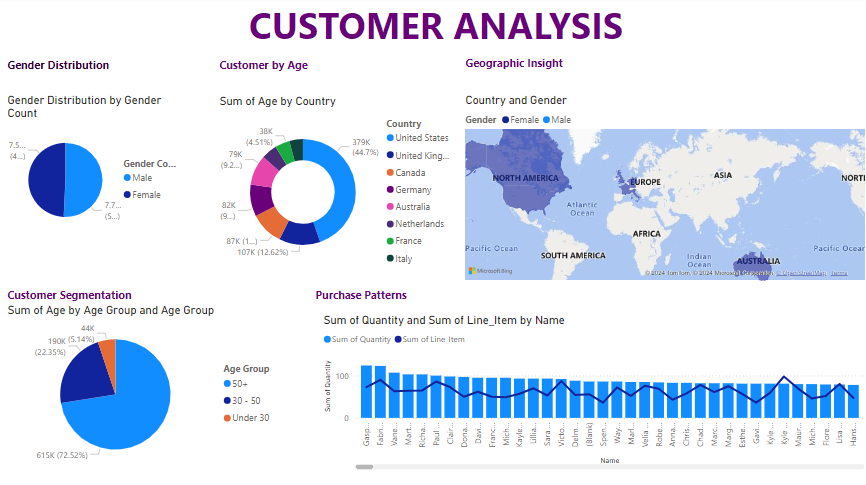

The dashboard page shown, as its layout file describes it:
{"tool":"powerbi","page":{"name":"Customer Analysis","canvas":[1280,720],"ordinal":0},"visuals":[{"type":"textbox","box":[10.3,0,1269.6,85.2],"z":0},{"type":"textbox","box":[10.3,85.2,194,32.3],"z":1000},{"type":"pieChart","fields":{"Category":["customer_sale_eda customer_details.Gender"],"Y":["customer_sale_eda customer_details.Gender"]},"box":[10.3,142.5,267.4,217.5],"z":2000},{"type":"textbox","box":[321.8,85.2,183.7,35.3],"z":3000},{"type":"donutChart","fields":{"Category":["customer_sale_eda customer_details.Country"],"Y":["customer_sale_eda customer_details.Age"]},"box":[321.8,144,361.5,268.9],"z":4000},{"type":"textbox","box":[683.3,82.3,194,38.2],"z":5000},{"type":"filledMap","fields":{"Category":["customer_sale_eda customer_details.Country"],"Series":["customer_sale_eda customer_details.Gender"]},"box":[683.3,142.5,596.6,280.7],"z":6000},{"type":"textbox","box":[10.3,423.2,227.8,36.7],"z":7000},{"type":"pieChart","fields":{"Category":["customer_sale_eda customer_details.50+"],"Series":["customer_sale_eda customer_details.50+"],"Y":["customer_sale_eda customer_details.Age"]},"box":[10.3,451.1,414.4,249.8],"z":8000},{"type":"textbox","box":[462.9,423.2,298.3,33.8],"z":9000},{"type":"lineClusteredColumnComboChart","fields":{"Y":["customer_sale_eda sales_details.Quantity"],"Category":["customer_sale_eda customer_details.Name"],"Y2":["customer_sale_eda sales_details.Line_Item"]},"box":[474.6,465.8,805.2,235.1],"z":10000}]}

Visuals, with their boxes in screenshot pixels (x1, y1, x2, y2), scaled from the page's 1280x720 canvas onto the 866x485 screenshot:
textbox: bbox=[7, 0, 865, 57]
textbox: bbox=[7, 57, 138, 79]
pieChart - customer_sale_eda customer_details.Gender x customer_sale_eda customer_details.Gender: bbox=[7, 96, 188, 243]
textbox: bbox=[218, 57, 342, 81]
donutChart - customer_sale_eda customer_details.Country x customer_sale_eda customer_details.Age: bbox=[218, 97, 462, 278]
textbox: bbox=[462, 55, 594, 81]
filledMap - customer_sale_eda customer_details.Country x customer_sale_eda customer_details.Gender: bbox=[462, 96, 865, 285]
textbox: bbox=[7, 285, 161, 310]
pieChart - customer_sale_eda customer_details.50+ x customer_sale_eda customer_details.50+: bbox=[7, 304, 287, 472]
textbox: bbox=[313, 285, 515, 308]
lineClusteredColumnComboChart - customer_sale_eda sales_details.Quantity x customer_sale_eda customer_details.Name: bbox=[321, 314, 865, 472]
